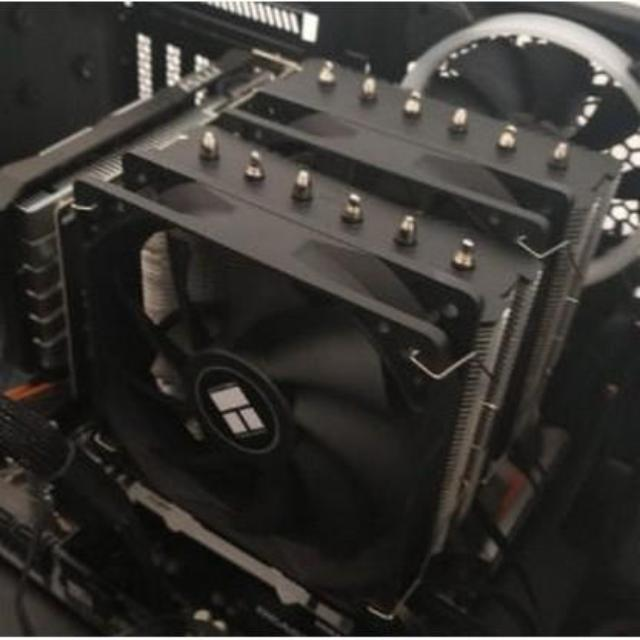CPU_Fan: (86, 30, 620, 588)
